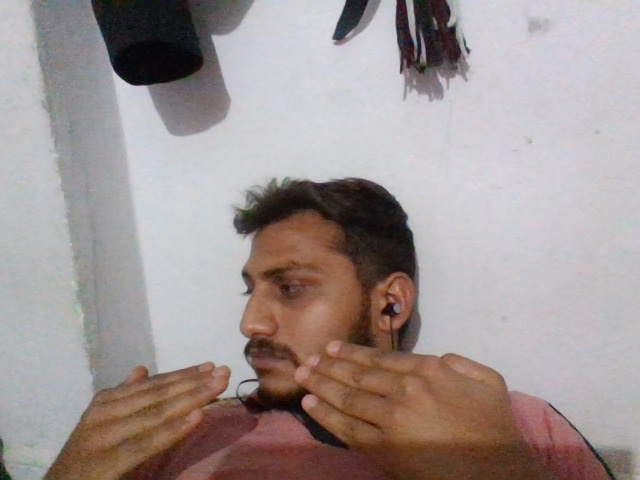Thanks: (43, 340, 538, 480)
